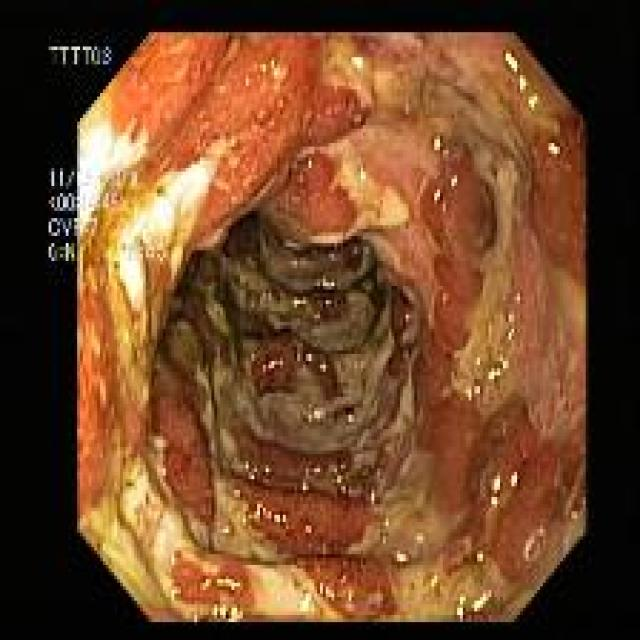ulcerative-colitis: (80, 33, 585, 622)
